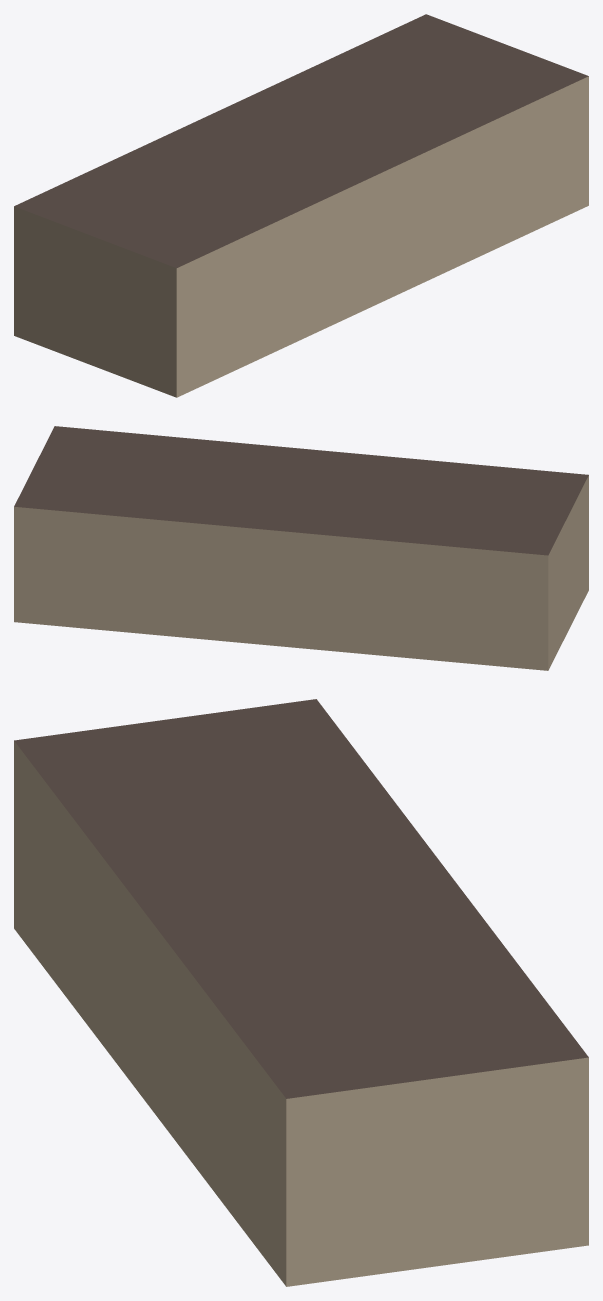
3 renders of one model, top to bottom at view 1: azimuth 30°, elevation 25°; view 2: azimuth 150°, elevation 25°; view 3: azimuth 270°, elevation 25°, orthographic. The views are drawn at different scales.
Parts seen in each view (by area): view 1: HP-w859457407; view 2: HP-w859457407; view 3: HP-w859457407.
Boxes of the visible parts, x1=… form: HP-w859457407: x1=14, y1=14, x2=588, y2=397; HP-w859457407: x1=14, y1=426, x2=588, y2=670; HP-w859457407: x1=14, y1=699, x2=588, y2=1286.
Size of the model in its own units: 41.06 by 9 by 24.95.
